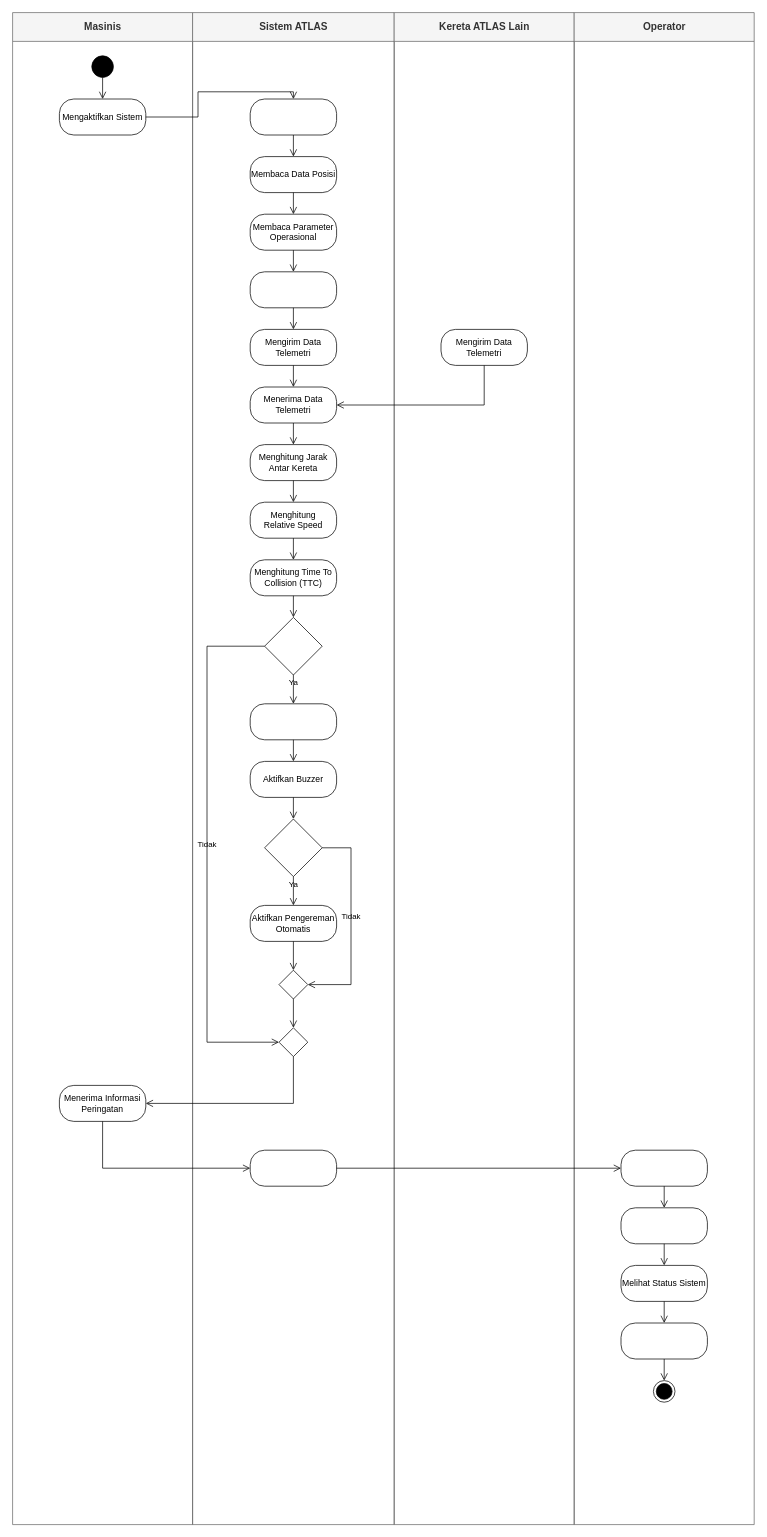
This 767x1537 diagram has some shape labels left out. The centre of each missing label's shape, as x and y in pixels:
"Aktifkan LED" goes at point 293,721.
"Inisialisasi GPS RTK" goes at point 293,116.
"Melihat Posisi Kereta" goes at point 663,1225.
"Melihat Riwayat Peringatan" goes at point 663,1340.
"Memantau Dashboard" goes at point 663,1167.
"Membentuk Data Telemetri" goes at point 293,289.
"Mengirim Data ke Server" goes at point 293,1167.
"Risiko Kritis?" goes at point 293,847.
"Risiko Tabrakan?" goes at point 293,646.
